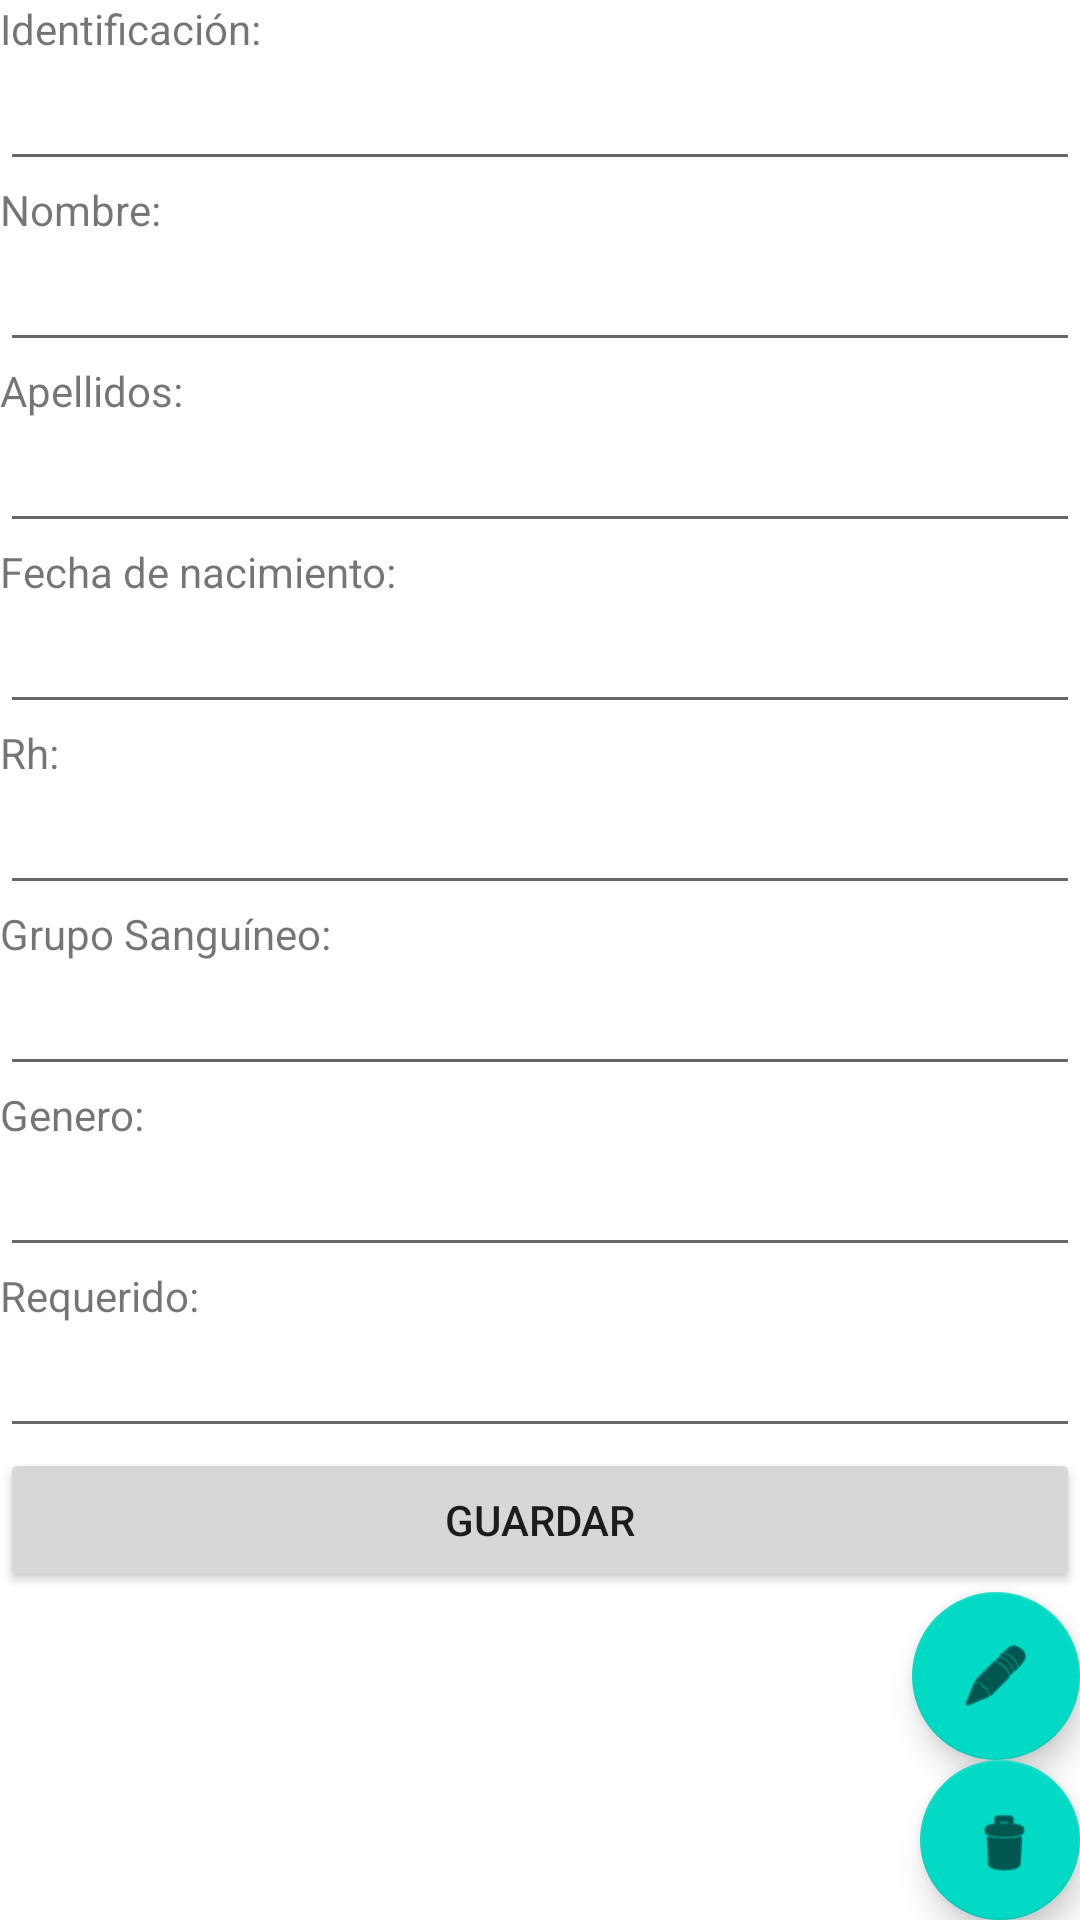

Point at icon controls on the screen. Image size 1080px x 1920px, points as [x,y].
delete: [1000,1840]
edit: [996,1676]
